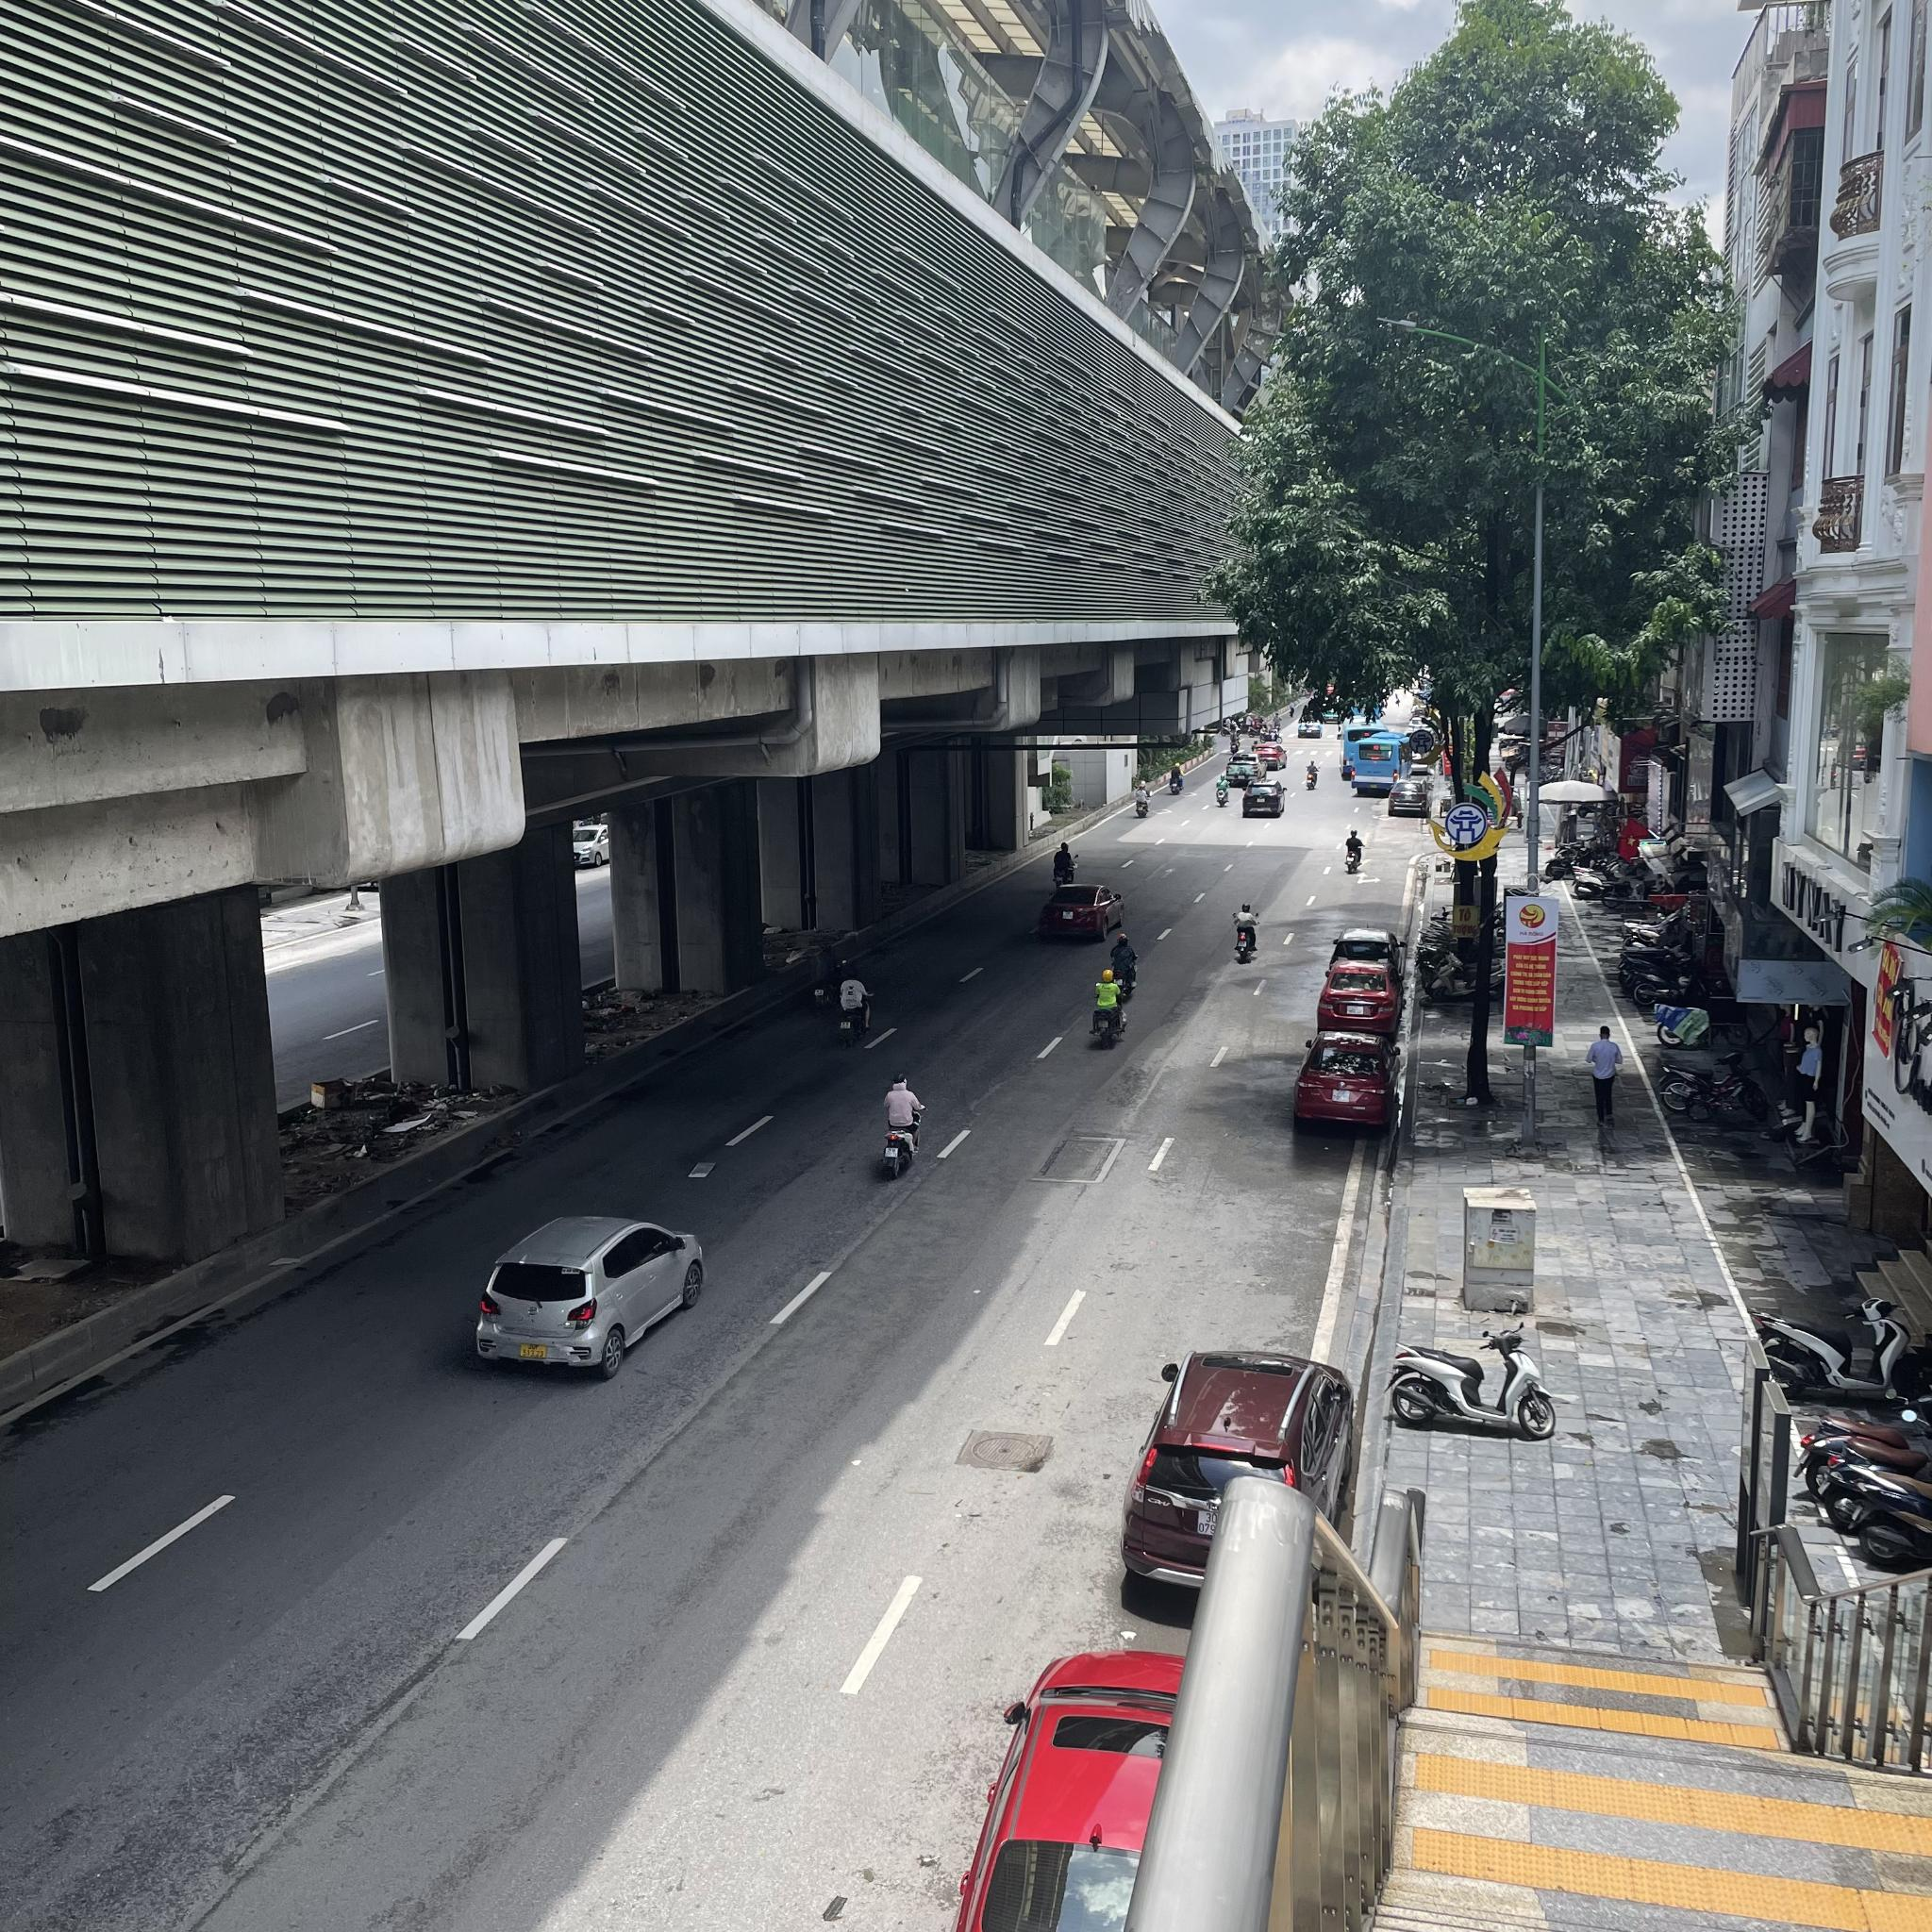car: (471, 1210, 715, 1371), (1295, 1031, 1405, 1138), (1316, 957, 1403, 1046), (1039, 885, 1125, 941), (1329, 927, 1408, 978), (1242, 780, 1286, 817), (1226, 752, 1269, 786), (1387, 782, 1428, 816), (1253, 743, 1286, 771)
motobike: (1380, 1323, 1568, 1444), (872, 1074, 936, 1177), (839, 970, 876, 1049), (1095, 968, 1125, 1053), (809, 938, 839, 1012), (1109, 932, 1139, 1000), (1231, 906, 1258, 962), (1053, 842, 1077, 892), (1341, 828, 1366, 874), (1134, 780, 1154, 817), (1169, 763, 1185, 794), (1306, 761, 1320, 789), (1215, 775, 1228, 805), (1230, 731, 1240, 754)
